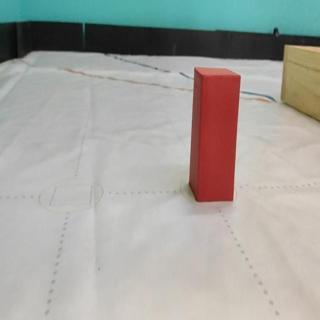redbox: (188, 66, 241, 204)
